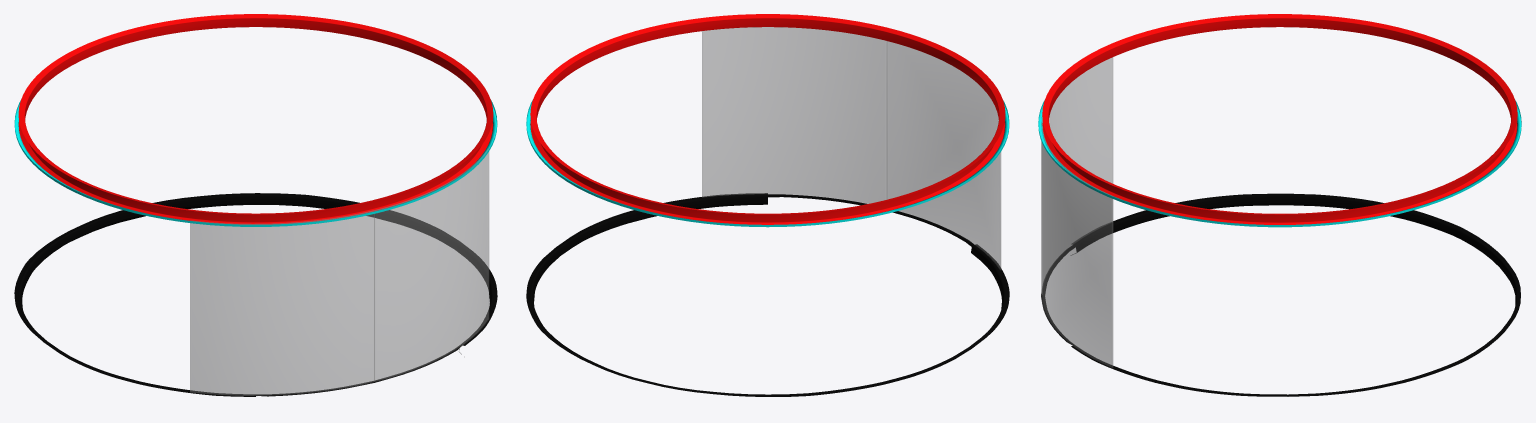
File: ListeningRoomChamberDoors.fbx
The picture shows the model from 3 angles, left to right: view 1: azimuth 30°, elevation 25°; view 2: azimuth 150°, elevation 25°; view 3: azimuth 270°, elevation 25°; orthographic projection.
Parts seen in each view (by area): view 1: ListeningRoomChamberDoorLeft001, ListeningRoomChamberRunners001, ListeningRoomChamberDoorRight001; view 2: ListeningRoomChamberDoorRight001, ListeningRoomChamberRunners001, ListeningRoomChamberDoorLeft001; view 3: ListeningRoomChamberRunners001, ListeningRoomChamberDoorRight001, ListeningRoomChamberDoorLeft001.
Part boxes in pixels (bbox=[...]): ListeningRoomChamberDoorLeft001: bbox=[190, 210, 374, 396]; ListeningRoomChamberRunners001: bbox=[14, 14, 497, 396]; ListeningRoomChamberDoorRight001: bbox=[374, 148, 489, 381]; ListeningRoomChamberDoorRight001: bbox=[702, 27, 886, 203]; ListeningRoomChamberRunners001: bbox=[526, 14, 1009, 396]; ListeningRoomChamberDoorLeft001: bbox=[886, 41, 1001, 269]; ListeningRoomChamberRunners001: bbox=[1038, 14, 1521, 396]; ListeningRoomChamberDoorRight001: bbox=[1041, 123, 1113, 367]; ListeningRoomChamberDoorLeft001: bbox=[1041, 57, 1113, 294].
Bounding box in the file's own units: 874 × 385 × 874.
